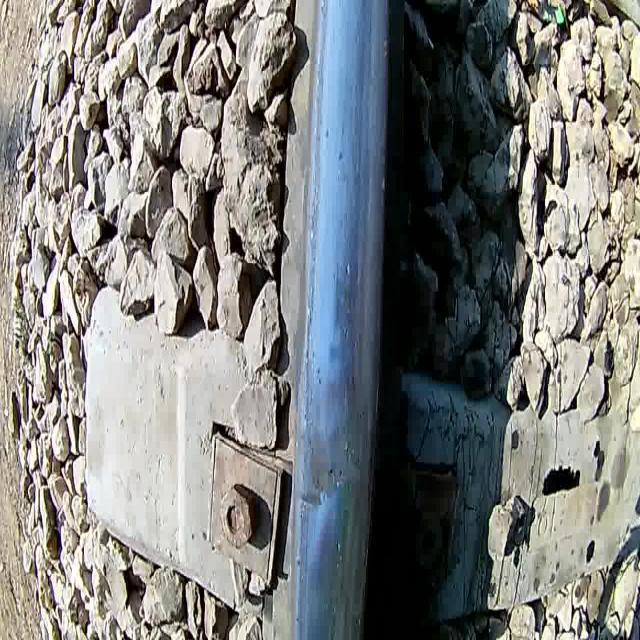Squats: (276, 392, 382, 531)
